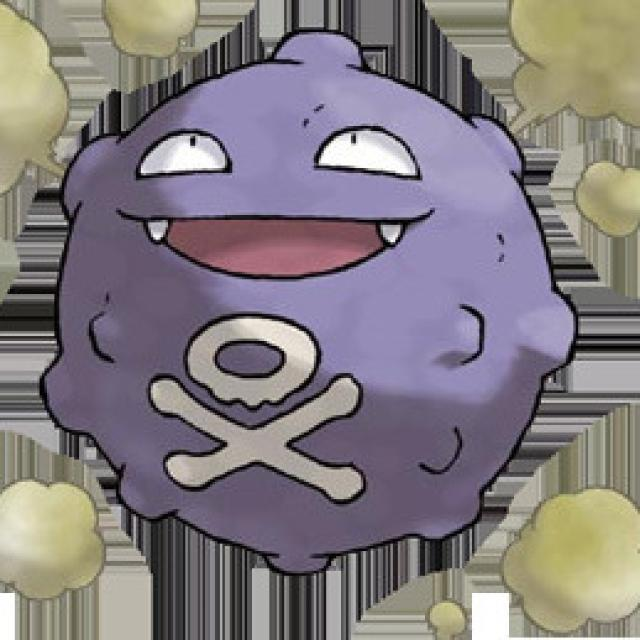Koffing: (39, 38, 592, 578)
